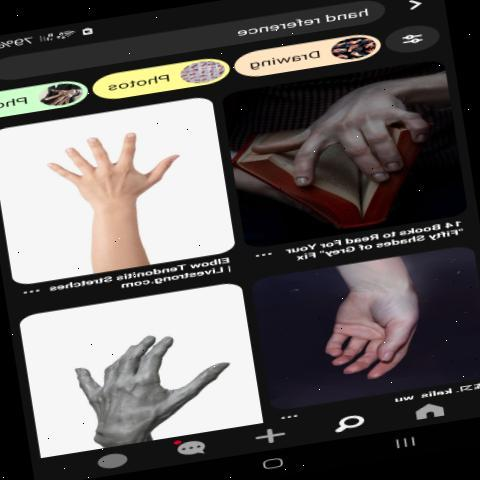Hands: (240, 75, 438, 220), (55, 308, 238, 438), (31, 103, 188, 240), (294, 263, 434, 389)
